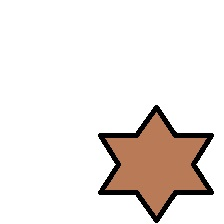star: (98, 105, 214, 224)
